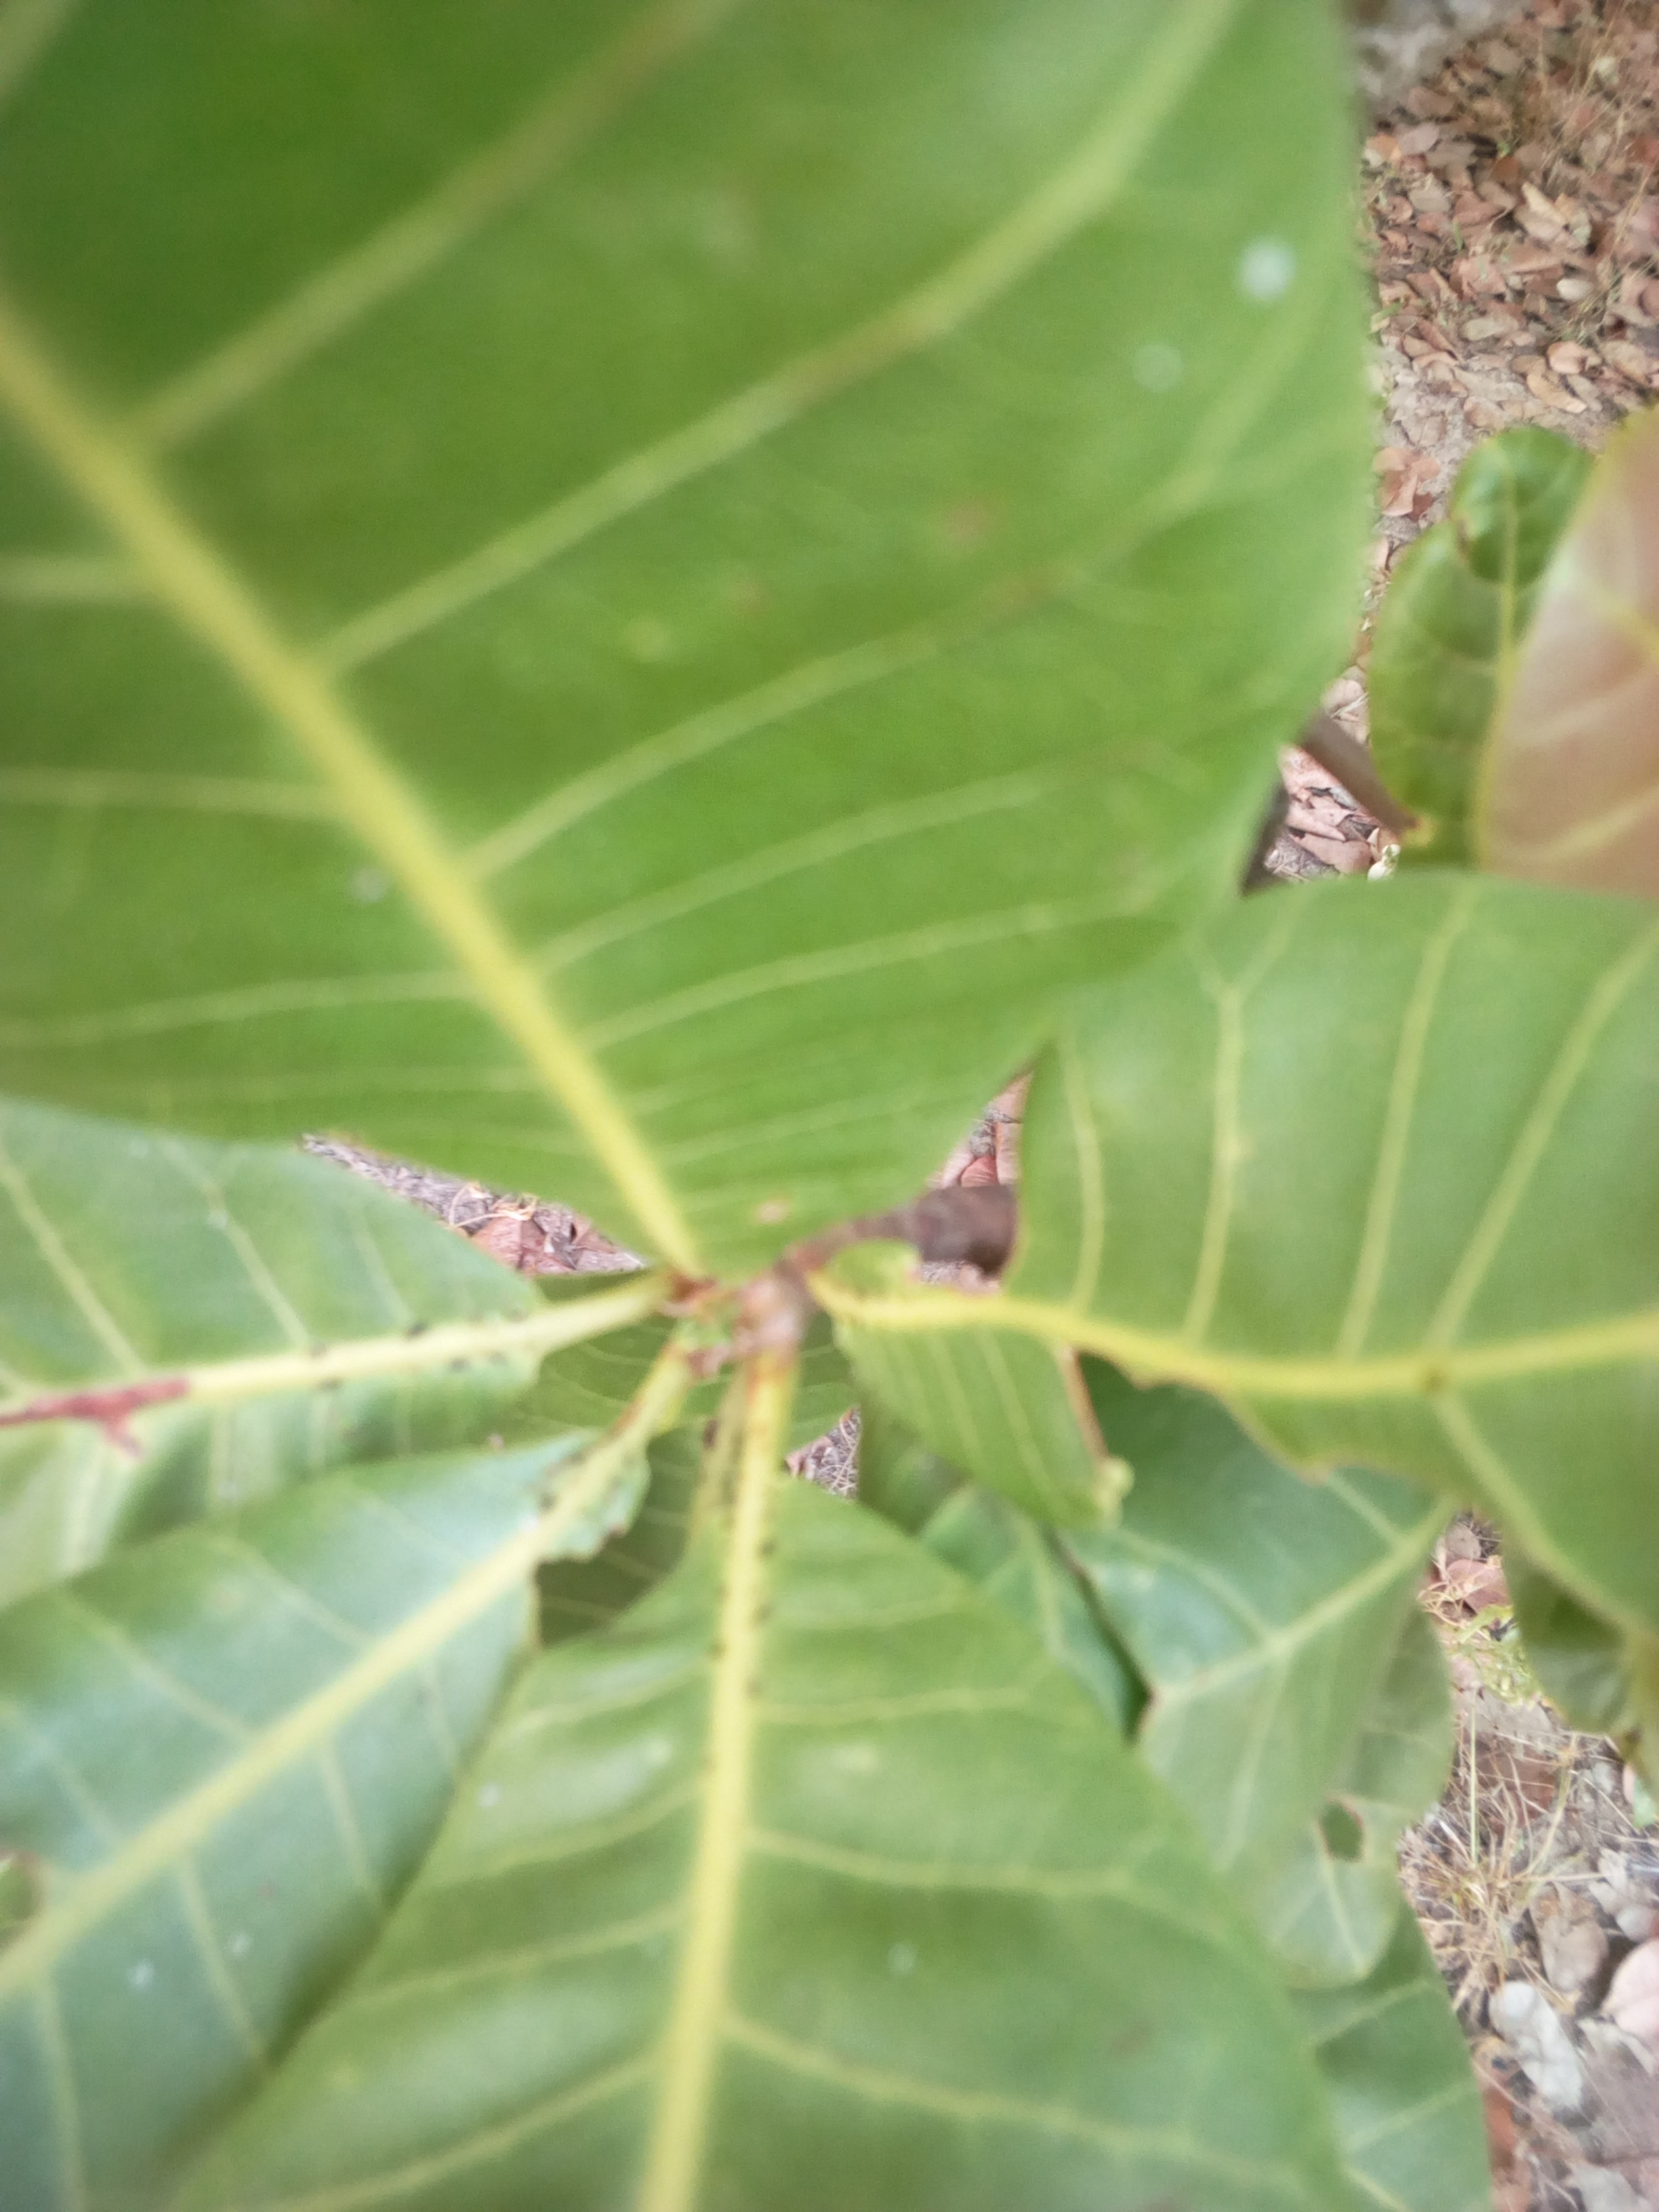Anoplocnemis curvipes: (911, 934, 1659, 1693)
